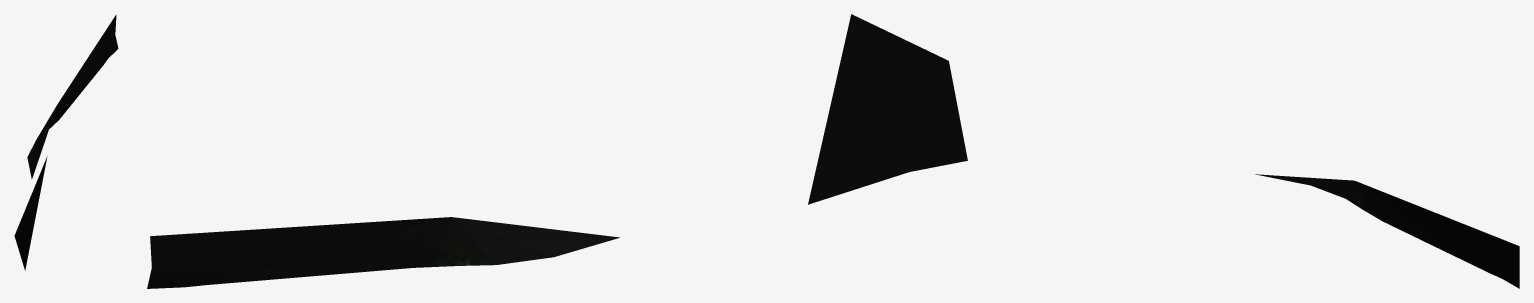
The picture shows the model from 3 angles, left to right: view 1: azimuth 30°, elevation 25°; view 2: azimuth 150°, elevation 25°; view 3: azimuth 270°, elevation 25°; orthographic projection. The views are drawn at different scales.
Bounding box in the file's own units: 21.69 × 6.66 × 26.11.
1 material, 1 textured.
